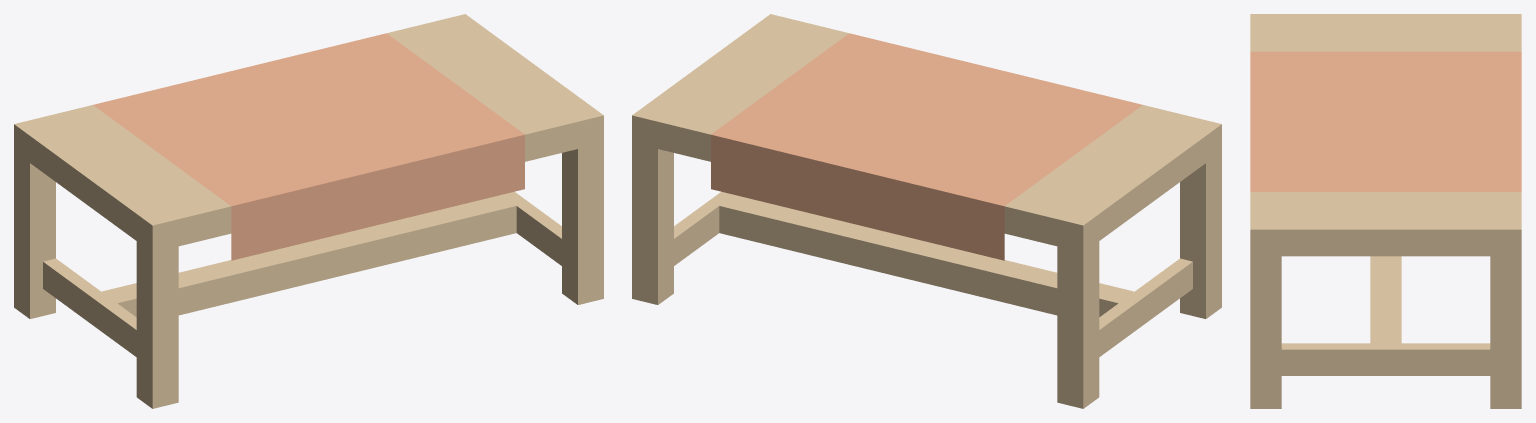
File: tableCloth.glb
The picture shows the model from 3 angles, left to right: view 1: azimuth 30°, elevation 25°; view 2: azimuth 150°, elevation 25°; view 3: azimuth 270°, elevation 25°; orthographic projection. The views are drawn at different scales.
Visible parts, largest first — view 1: tableCloth; view 2: tableCloth; view 3: tableCloth.
Boxes of the visible parts, left/top/right/bottom form: tableCloth: left=14, top=14, right=603, bottom=408; tableCloth: left=632, top=14, right=1221, bottom=408; tableCloth: left=1250, top=14, right=1521, bottom=408.
Size of the model in its own units: 8.41 by 3.27 by 4.47.
